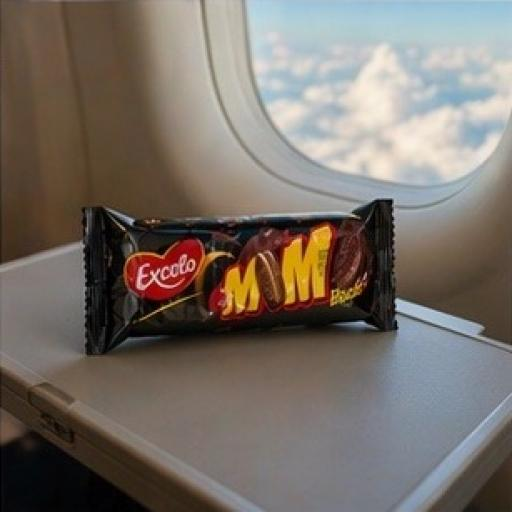MOMO: (84, 203, 400, 336)
